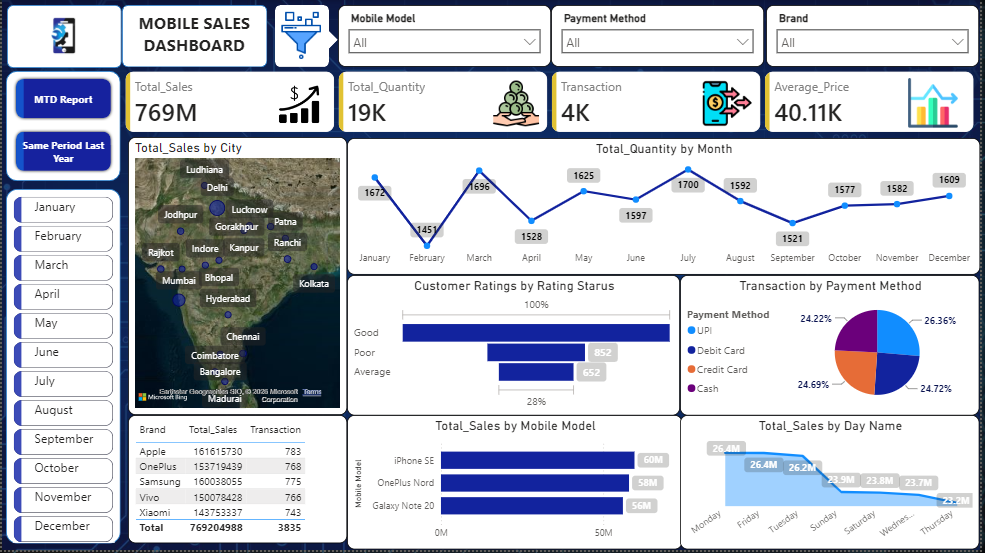

The dashboard page shown, as its layout file describes it:
{"tool":"powerbi","page":{"name":"Dashboard","canvas":[1280,720],"ordinal":0},"visuals":[{"type":"shape","box":[6.2,6.2,150,82.5],"z":0},{"type":"image","box":[5.9,5.9,150,82.5],"z":1000},{"type":"shape","box":[5.9,92.6,149.9,144],"z":2000},{"type":"shape","box":[5.7,247.1,150,464.3],"z":3000},{"type":"advancedSlicerVisual","fields":{"Values":["Custom_Calendar.Date.Variation.Date Hierarchy.Month"]},"box":[14.3,257.1,132.9,454.3],"z":4000},{"type":"cardVisual","fields":{"Data":["Sales_Data.Total_Sales","Sales_Data.Total_Quantity","Sales_Data.Transaction","Sales_Data.Average_Price"]},"box":[155.8,88.2,1124.1,91.1],"z":5000},{"type":"slicer","fields":{"Values":["Sales_Data.Mobile Model"]},"box":[439.3,6.4,279.3,81.4],"z":6000},{"type":"slicer","fields":{"Values":["Sales_Data.Payment Method"]},"box":[718.6,6.4,279.3,81.4],"z":7000},{"type":"slicer","fields":{"Values":["Sales_Data.Brand"]},"box":[1000.7,6.4,279.3,81.4],"z":8000},{"type":"shape","box":[357.1,6.4,70.7,81.4],"z":9000},{"type":"shape","box":[409.2,37.5,30,28.3],"z":10000},{"type":"image","box":[358.6,15,65.8,64.2],"z":11000},{"type":"image","box":[356.7,103.3,65.8,64.2],"z":12000},{"type":"image","box":[640,103.3,65.8,64.2],"z":13000},{"type":"image","box":[916.7,103.3,65.8,64.2],"z":14000},{"type":"image","box":[1178.3,101.7,80,65],"z":15000},{"type":"shape","box":[157.1,7.1,190,81.4],"z":16000},{"type":"textbox","box":[161.4,10.7,181.4,72.1],"z":17000},{"type":"map","fields":{"Category":["Sales_Data.City"],"Size":["Sales_Data.Total_Sales"]},"box":[164.6,179.3,286.5,364.4],"z":18000},{"type":"lineChart","fields":{"Y":["Sales_Data.Total_Quantity"],"Category":["Custom_Calendar.Date.Variation.Date Hierarchy.Month"]},"box":[451.1,180.7,828.7,179.3],"z":19000},{"type":"funnel","title":"Customer Ratings by Rating Starus","fields":{"Y":["CountNonNull(Sales_Data.Customer Ratings)"],"Category":["Sales_Data.Rating Starus"]},"box":[451.1,360,436.4,183.7],"z":20000},{"type":"pieChart","fields":{"Y":["Sales_Data.Transaction"],"Category":["Sales_Data.Payment Method"]},"box":[887.5,360,392.3,183.7],"z":21000},{"type":"clusteredBarChart","fields":{"Y":["Sales_Data.Total_Sales"],"Category":["Sales_Data.Mobile Model"]},"box":[451.1,543.7,439.3,176.3],"z":22000},{"type":"areaChart","fields":{"Category":["Custom_Calendar.Day Name"],"Y":["Sales_Data.Total_Sales"]},"box":[887.5,543.7,392.3,176.3],"z":23000},{"type":"tableEx","fields":{"Values":["Sales_Data.Brand","Sales_Data.Total_Sales","Sales_Data.Transaction"]},"box":[164.6,543.7,286.5,167.5],"z":24000},{"type":"pageNavigator","box":[14.7,99.9,132.2,129.3],"z":25000}]}

Visuals, with their boxes in screenshot pixels (x1, y1, x2, y2), scaled from the page's 1280x720 canvas onto the 985x553 screenshot:
shape: 5:5:120:68
image: 5:5:120:68
shape: 5:71:120:182
shape: 4:190:120:546
advancedSlicerVisual - Custom_Calendar.Date.Variation.Date Hierarchy.Month: 11:197:113:546
cardVisual - Sales_Data.Total_Sales x Sales_Data.Total_Quantity: 120:68:984:138
slicer - Sales_Data.Mobile Model: 338:5:553:67
slicer - Sales_Data.Payment Method: 553:5:768:67
slicer - Sales_Data.Brand: 770:5:984:67
shape: 275:5:329:67
shape: 315:29:338:51
image: 276:12:327:61
image: 274:79:325:129
image: 492:79:543:129
image: 705:79:756:129
image: 907:78:968:128
shape: 121:5:267:68
textbox: 124:8:264:64
map - Sales_Data.City x Sales_Data.Total_Sales: 127:138:347:418
lineChart - Sales_Data.Total_Quantity x Custom_Calendar.Date.Variation.Date Hierarchy.Month: 347:139:984:276
"Customer Ratings by Rating Starus" funnel: 347:276:683:418
pieChart - Sales_Data.Transaction x Sales_Data.Payment Method: 683:276:984:418
clusteredBarChart - Sales_Data.Total_Sales x Sales_Data.Mobile Model: 347:418:685:552
areaChart - Custom_Calendar.Day Name x Sales_Data.Total_Sales: 683:418:984:552
tableEx - Sales_Data.Brand x Sales_Data.Total_Sales: 127:418:347:546
pageNavigator: 11:77:113:176
